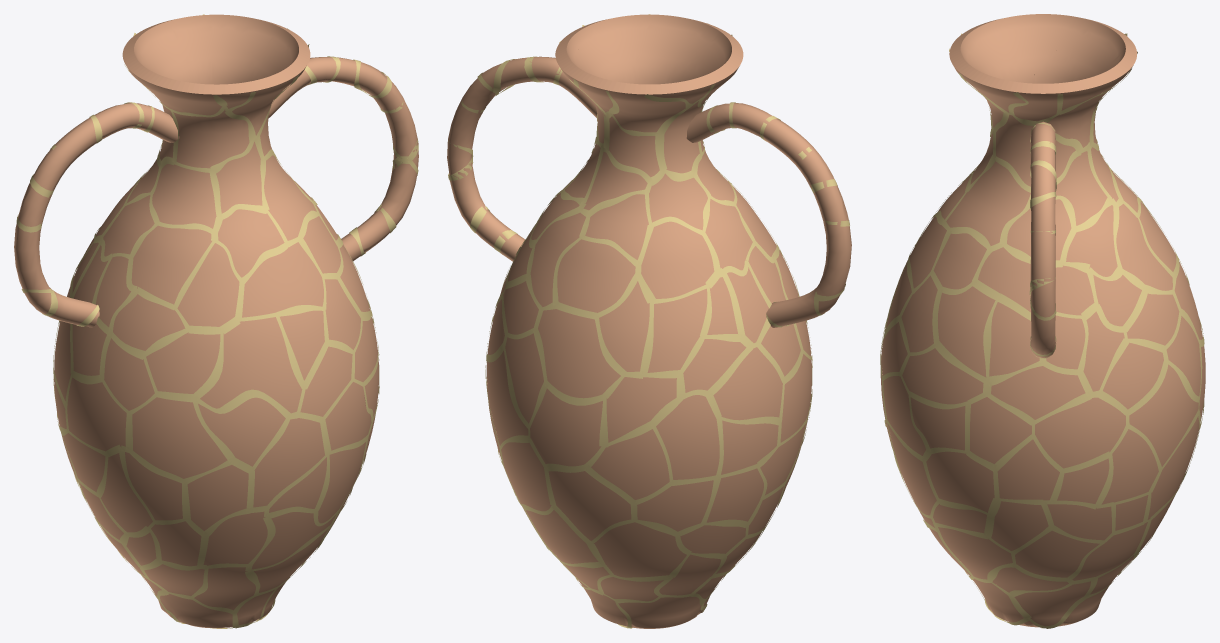
File: vase.raw.glb
3 views of the same model, side by side, from view 1: azimuth 30°, elevation 25°; view 2: azimuth 150°, elevation 25°; view 3: azimuth 270°, elevation 25° (orthographic).
Visible parts, largest first — view 1: shard_65, shard_50, shard_86, shard_93, shard_43, shard_87, shard_71, shard_56, shard_109, shard_102, shard_57, shard_37 (+56 smaller); view 2: shard_69, shard_90, shard_95, shard_53, shard_52, shard_20, shard_32, shard_47, shard_111, shard_59, shard_77, shard_60 (+56 smaller); view 3: shard_58, shard_116, shard_100, shard_75, shard_48, shard_63, shard_41, shard_64, shard_54, shard_46, shard_74, shard_44 (+53 smaller).
Boxes of the visible parts, <box> form: shard_65: <box>200,317,302,413</box>; shard_50: <box>132,397,227,478</box>; shard_86: <box>242,242,323,317</box>; shard_93: <box>131,225,211,304</box>; shard_43: <box>253,418,324,507</box>; shard_87: <box>177,243,239,326</box>; shard_71: <box>146,332,220,393</box>; shard_56: <box>198,397,285,466</box>; shard_109: <box>173,109,249,168</box>; shard_102: <box>152,164,216,228</box>; shard_57: <box>67,377,126,451</box>; shard_37: <box>187,465,248,530</box>; shard_69: <box>538,309,620,398</box>; shard_90: <box>557,239,635,312</box>; shard_95: <box>641,221,714,298</box>; shard_53: <box>530,388,602,466</box>; shard_52: <box>656,395,719,479</box>; shard_20: <box>594,522,686,577</box>; shard_32: <box>548,471,631,540</box>; shard_47: <box>591,429,669,499</box>; shard_111: <box>631,14,703,84</box>; shard_59: <box>713,347,782,420</box>; shard_77: <box>647,288,707,372</box>; shard_60: <box>606,377,676,442</box>; shard_58: <box>1035,397,1125,468</box>; shard_116: <box>964,14,1067,68</box>; shard_100: <box>946,161,1030,245</box>; shard_75: <box>937,286,995,377</box>; shard_48: <box>1129,364,1198,466</box>; shard_63: <box>991,366,1085,419</box>; shard_41: <box>926,451,994,512</box>; shard_64: <box>902,348,983,404</box>; shard_54: <box>970,397,1031,463</box>; shard_46: <box>997,439,1059,500</box>; shard_74: <box>989,302,1039,376</box>; shard_44: <box>1101,429,1158,504</box>.
Size of the model in its own units: 1.83 by 2.43 by 1.28.
